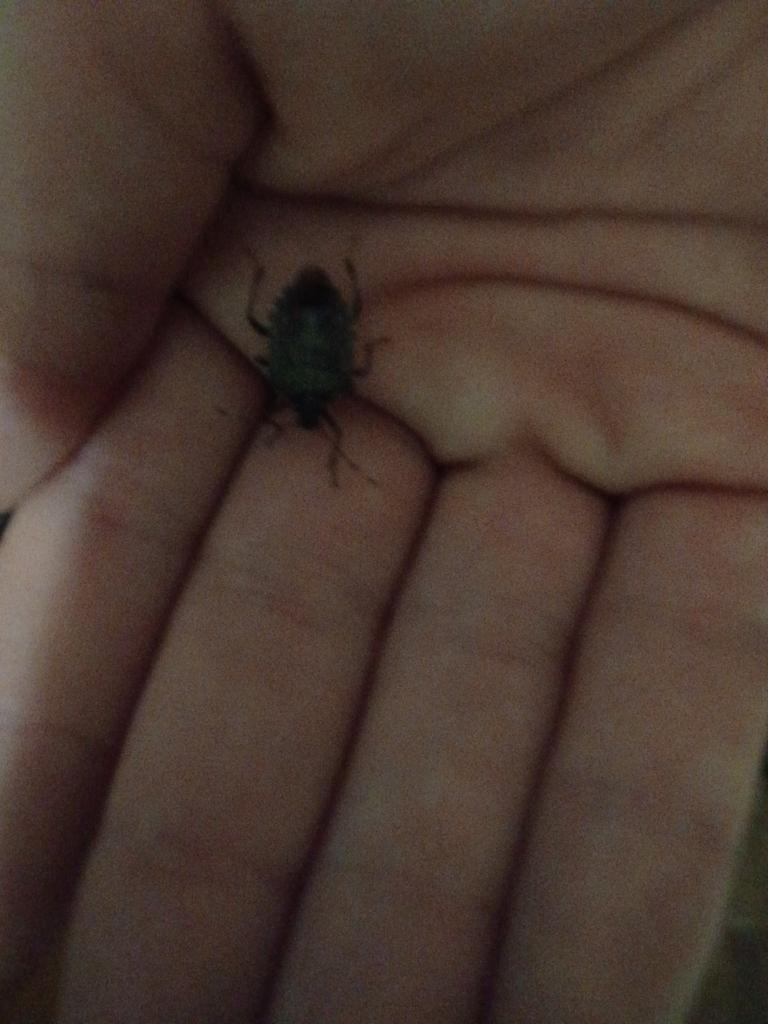stink_bugs: (208, 231, 390, 503)
